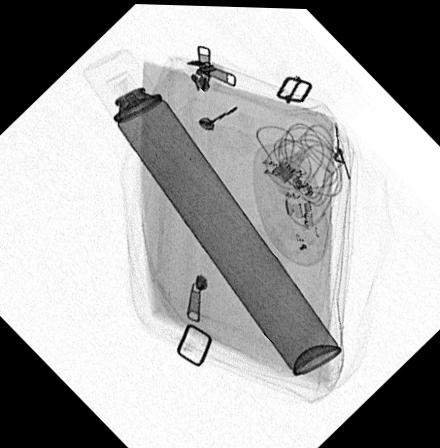Sprayer: (83, 46, 342, 372)
